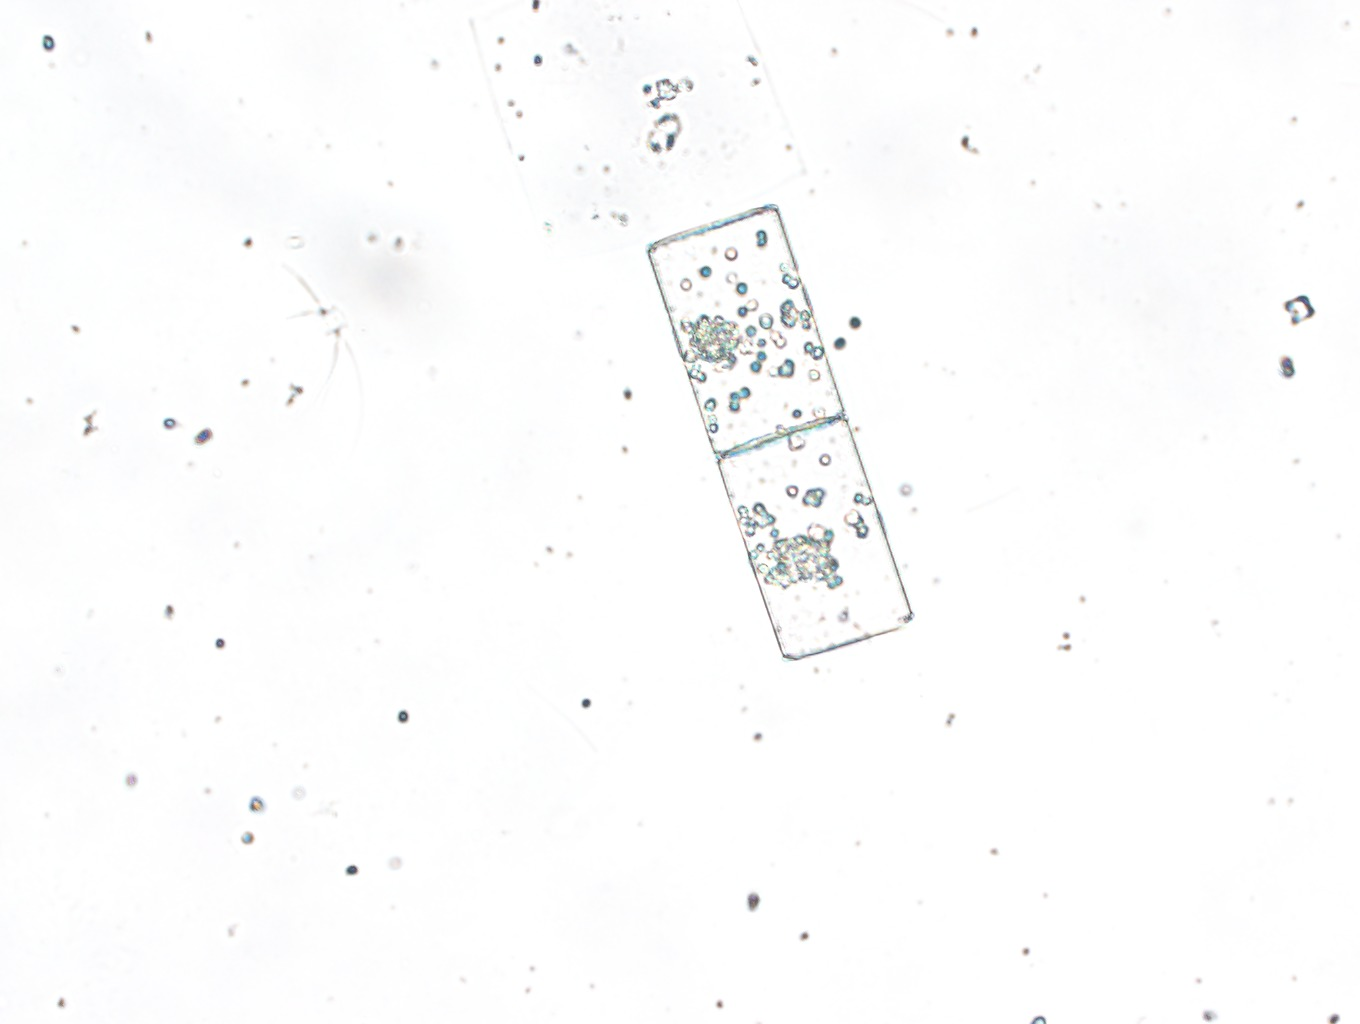guinardia flaccida: (647, 203, 912, 657), (470, 2, 816, 233)
